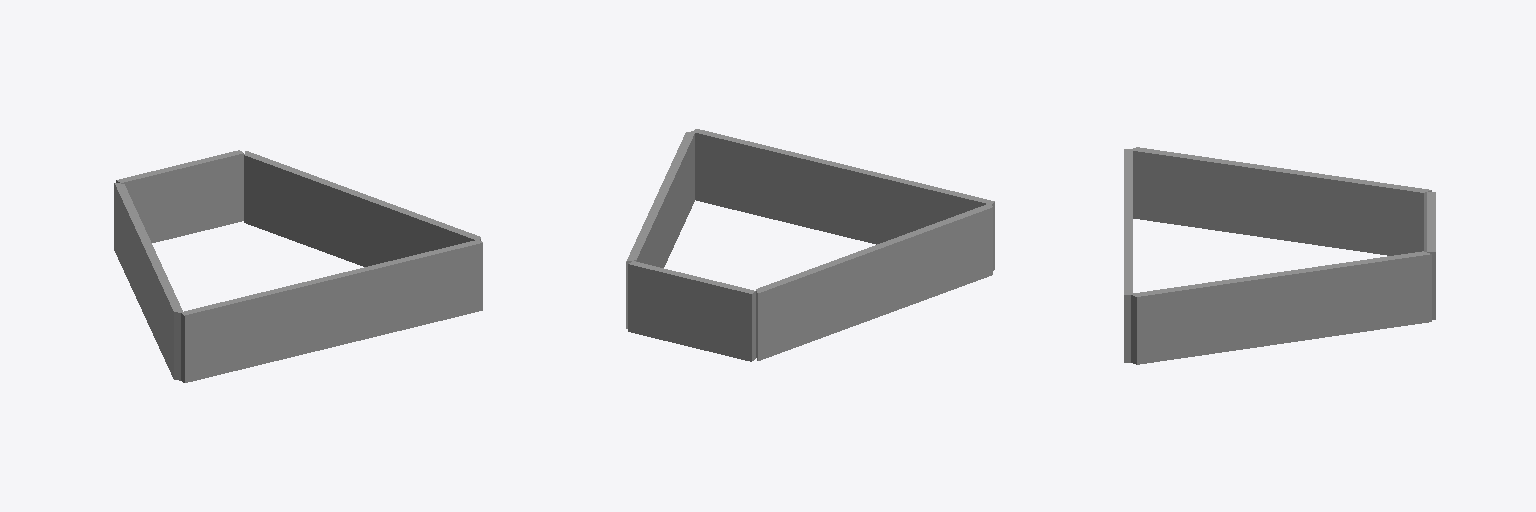
Rendered from Highlight3.obj.
3 renders of one model, left to right at view 1: azimuth 30°, elevation 25°; view 2: azimuth 150°, elevation 25°; view 3: azimuth 270°, elevation 25°, orthographic.
Visible parts, largest first — view 1: CrossBar_(2).002, CrossBar_(1).002, CrossBar_(3).002, CrossBar.003; view 2: CrossBar_(2).002, CrossBar.003, CrossBar_(3).002, CrossBar_(1).002; view 3: CrossBar_(1).002, CrossBar.003, CrossBar_(2).002, CrossBar_(3).002.
Part boxes in pixels (x1,y1,x2,y2): CrossBar_(2).002: (181, 240, 482, 382); CrossBar_(1).002: (244, 151, 480, 266); CrossBar_(3).002: (116, 150, 243, 242); CrossBar.003: (114, 183, 182, 380); CrossBar_(2).002: (694, 129, 994, 270); CrossBar.003: (756, 203, 992, 360); CrossBar_(3).002: (628, 261, 755, 361); CrossBar_(1).002: (626, 131, 694, 328); CrossBar_(1).002: (1130, 251, 1431, 364); CrossBar.003: (1130, 147, 1431, 255); CrossBar_(2).002: (1124, 149, 1132, 362); CrossBar_(3).002: (1427, 192, 1435, 319).
Bounding box in the file's own units: 0.9957 × 0.21 × 0.875.